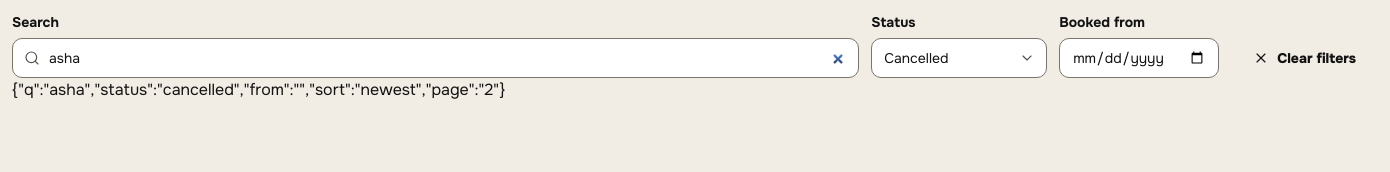
Test: FilterBar › offers Clear filters only when something is filtered, and it empties everything
Expected: the search field labelled "Search" holds "asha", x1=12 y1=38 x2=859 y2=78
Click the button "Clear filters": (1305, 58) x1=1231 y1=38 x2=1378 y2=78
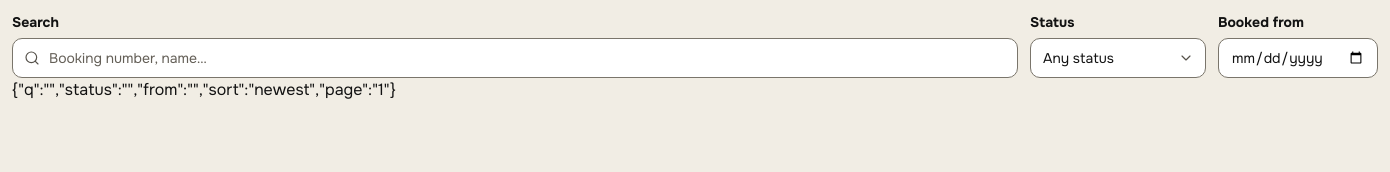
Now the search field labelled "Search" is empty, box x1=12 y1=38 x2=1018 y2=78
Now the dropdown labelled "Status" shows "Any status", box x1=1030 y1=38 x2=1206 y2=78
Now the button "Clear filters" is gone
